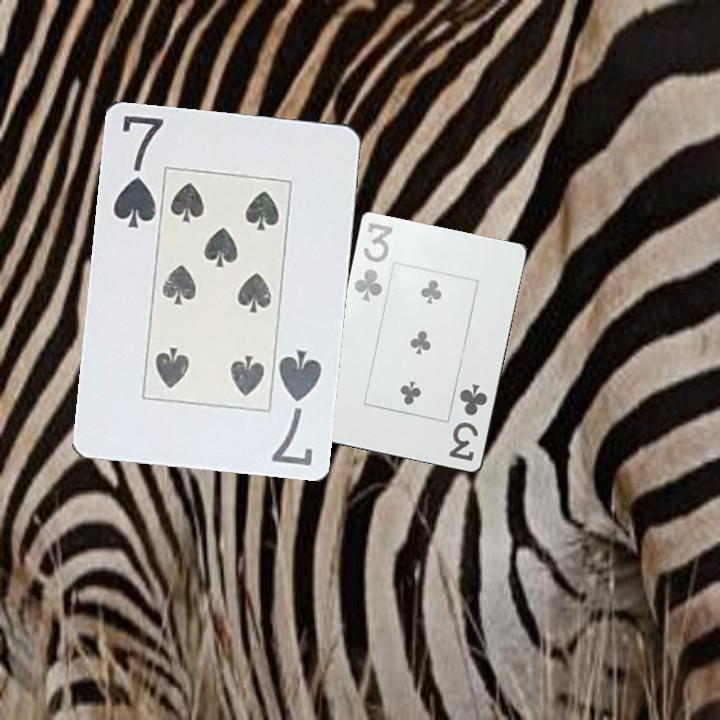3c: (351, 219, 396, 305), (445, 380, 491, 464)
7s: (267, 345, 324, 468), (108, 111, 166, 231)
